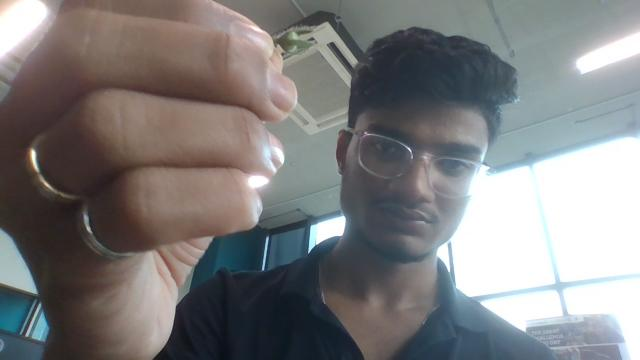Fruit Bud: (274, 30, 316, 53), (279, 28, 304, 55)
